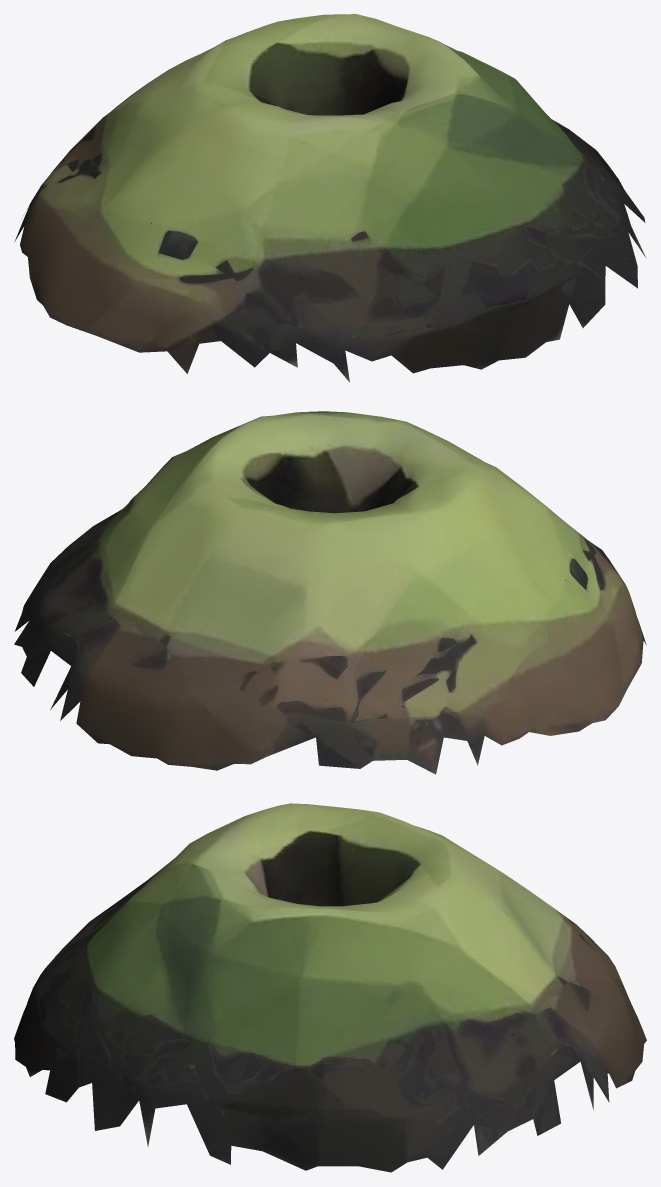
Rendered from bunny_hole.glb.
The picture shows the model from 3 angles, top to bottom: view 1: azimuth 30°, elevation 25°; view 2: azimuth 150°, elevation 25°; view 3: azimuth 270°, elevation 25°; orthographic projection.
Parts seen in each view (by area): view 1: world; view 2: world; view 3: world.
Boxes of the visible parts, x1,y1,x2,y2 form: world: (14,14,646,382); world: (14,411,646,774); world: (14,803,646,1172).
Bounding box in the file's own units: 0.9959 × 0.3254 × 1.
Materials: 1 (1 with a texture image).
